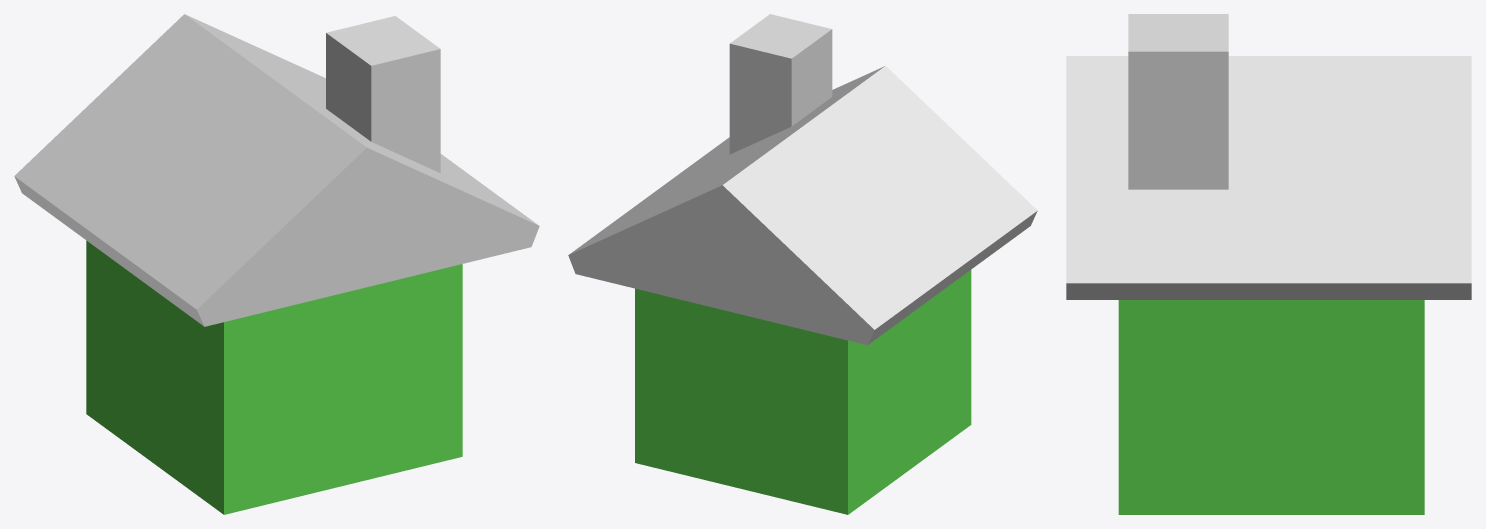
The model's file is house2.glb.
The picture shows the model from 3 angles, left to right: view 1: azimuth 30°, elevation 25°; view 2: azimuth 150°, elevation 25°; view 3: azimuth 270°, elevation 25°; orthographic projection. The views are drawn at different scales.
Parts seen in each view (by area): view 1: House, Cube; view 2: House, Cube; view 3: House, Cube.
Part boxes in pixels (<box>): House: <box>14,14,539,326</box>; Cube: <box>86,240,462,514</box>; House: <box>568,14,1037,345</box>; Cube: <box>635,270,971,514</box>; House: <box>1066,14,1471,299</box>; Cube: <box>1118,300,1424,514</box>.
Size of the model in its own units: 2.87 by 3.28 by 2.65.
